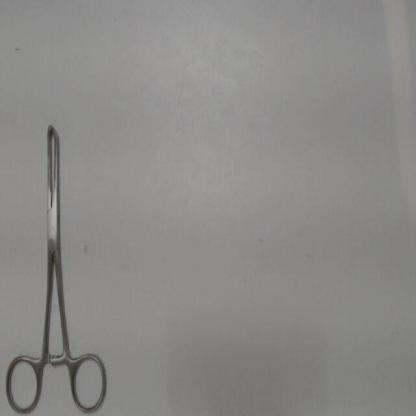Allis Tissue Forceps: (4, 121, 110, 415)
